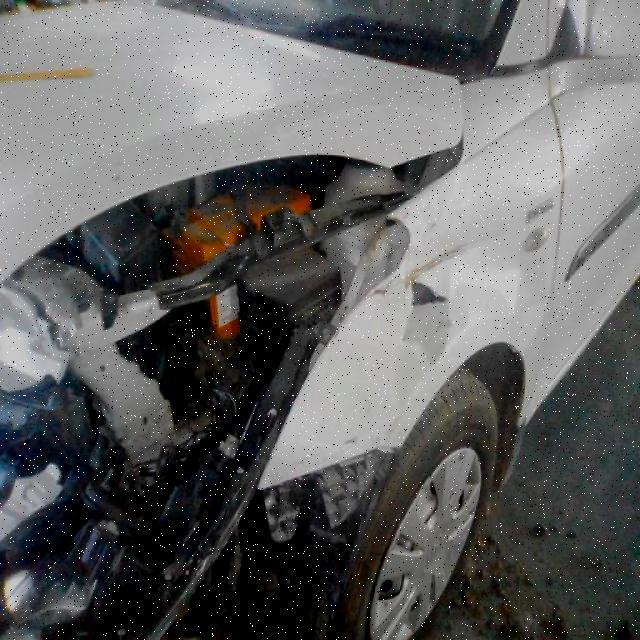car damage: (1, 138, 460, 640), (435, 167, 558, 345), (393, 278, 459, 374), (396, 231, 488, 297)
